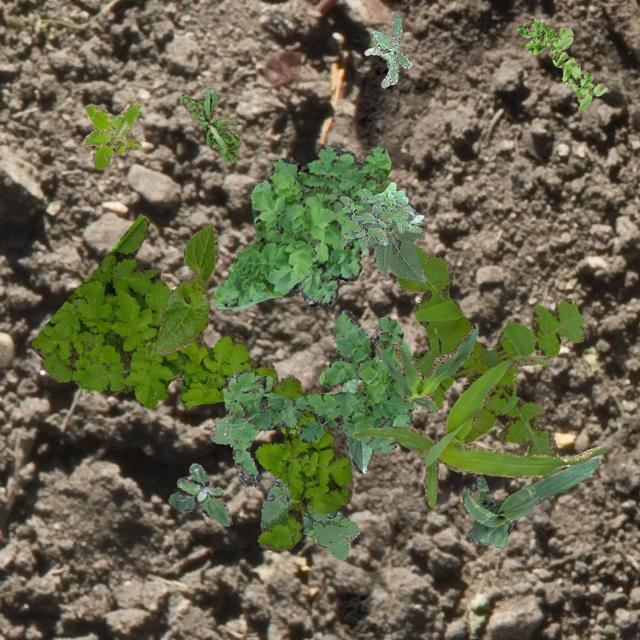crop: (352, 354, 604, 506), (460, 457, 600, 548), (374, 322, 478, 412), (154, 222, 218, 352), (358, 207, 427, 280), (340, 376, 372, 472)
weed: (31, 215, 352, 550), (354, 242, 584, 480), (222, 308, 416, 486), (210, 144, 390, 308), (260, 474, 360, 560), (516, 18, 606, 110), (338, 180, 422, 254), (178, 88, 240, 162), (168, 462, 230, 526), (82, 100, 140, 168), (364, 12, 411, 86), (208, 414, 234, 446)
